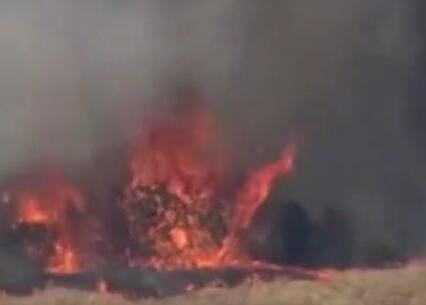fire: (9, 106, 323, 282)
